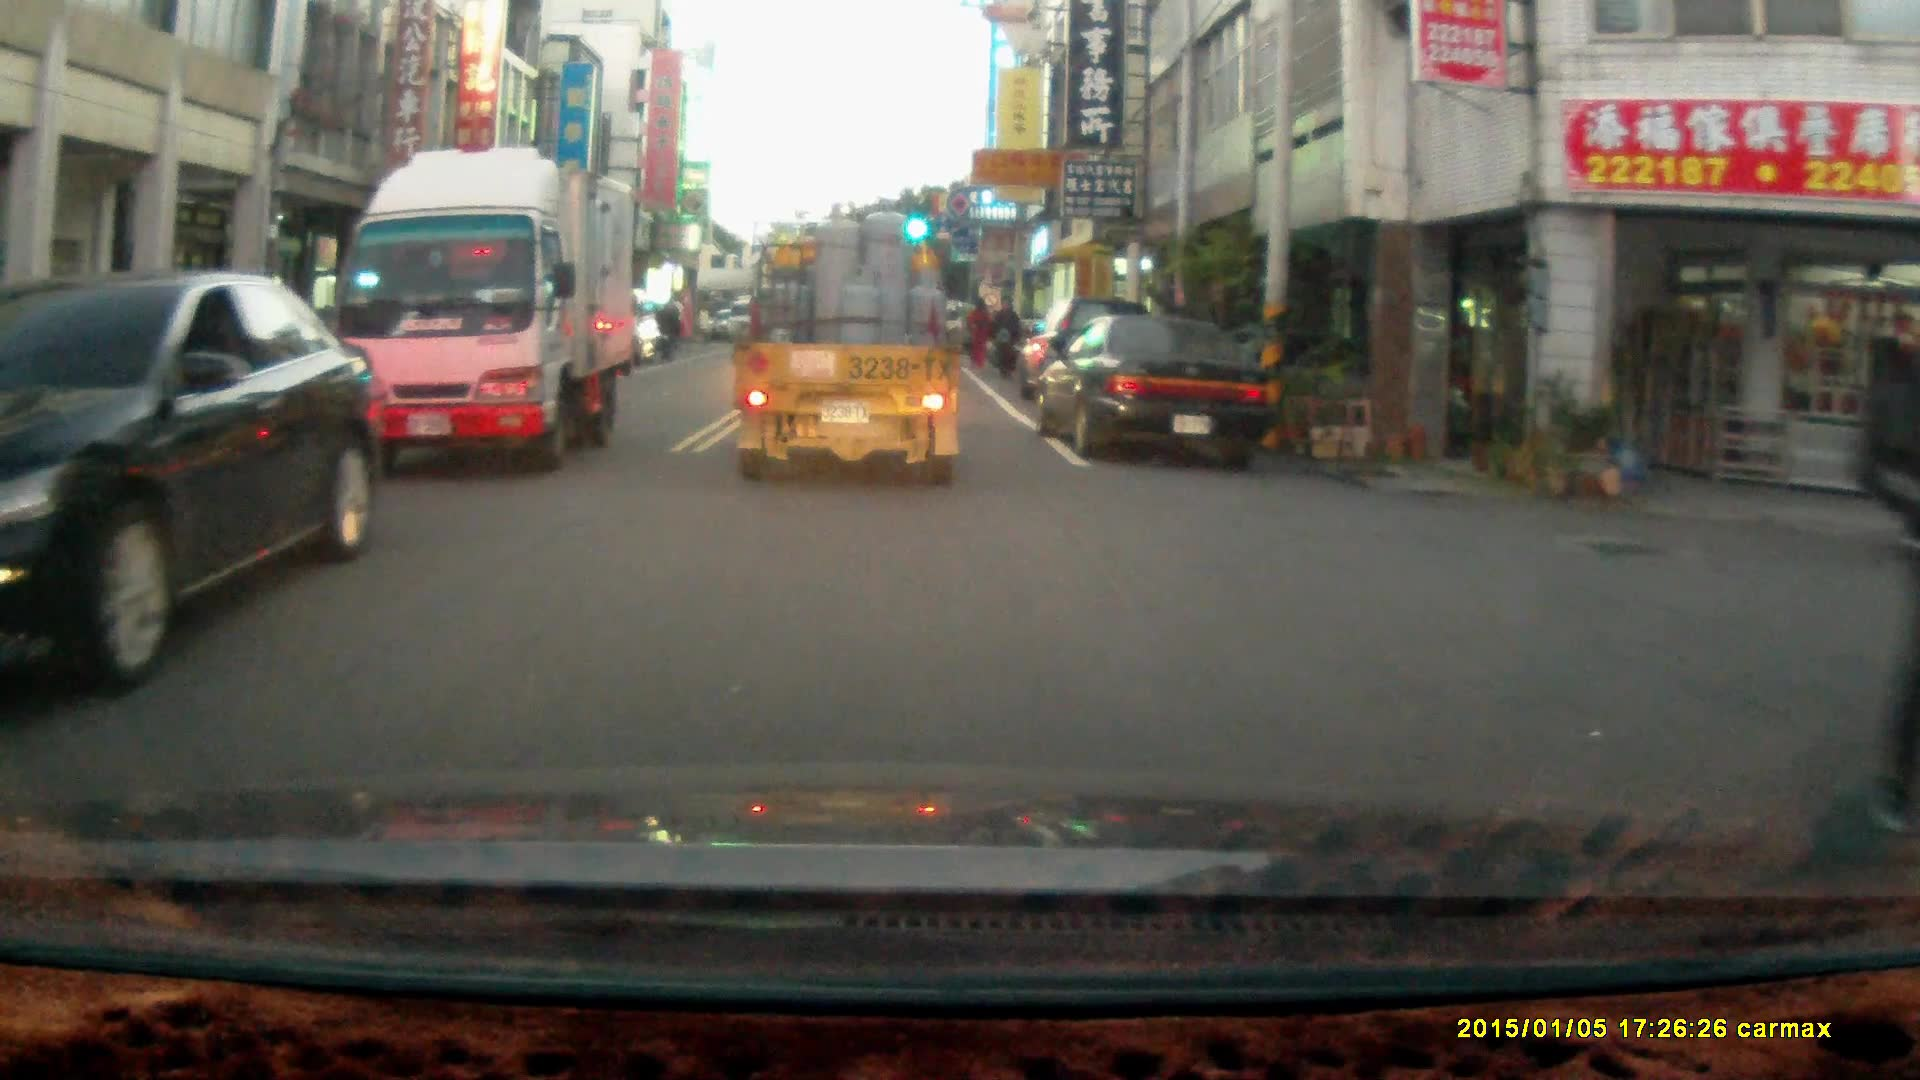pedestrian: (989, 295, 1020, 382), (963, 292, 994, 367), (654, 298, 684, 362)
vehicle: (1, 268, 380, 696), (329, 147, 636, 478), (730, 194, 966, 489), (1040, 310, 1274, 462)
